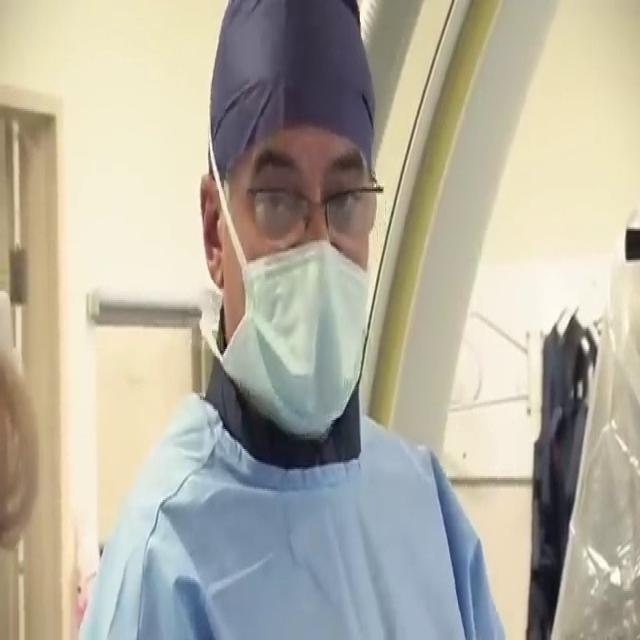doctor: (76, 0, 508, 638)
